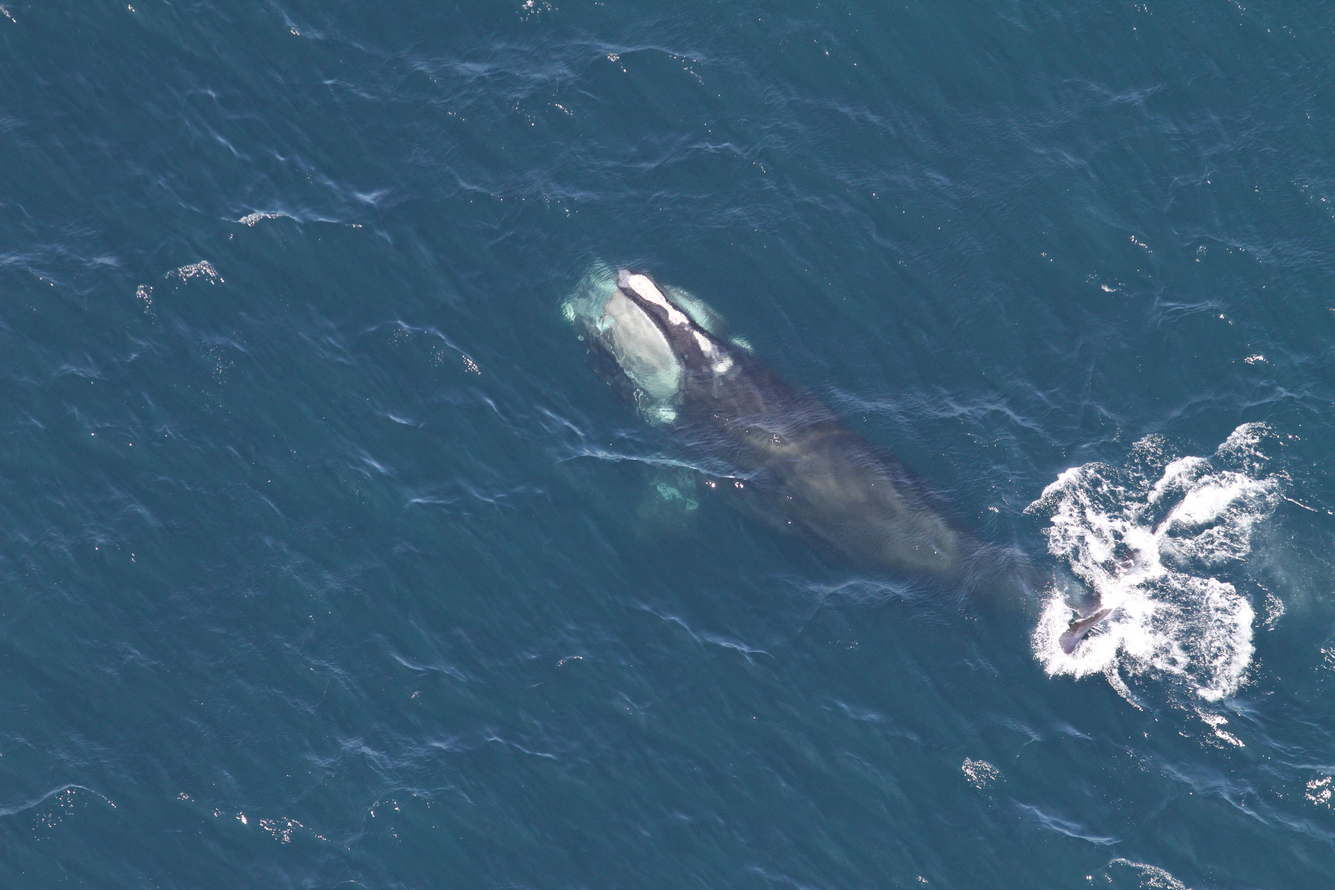whale: (555, 237, 1179, 670)
